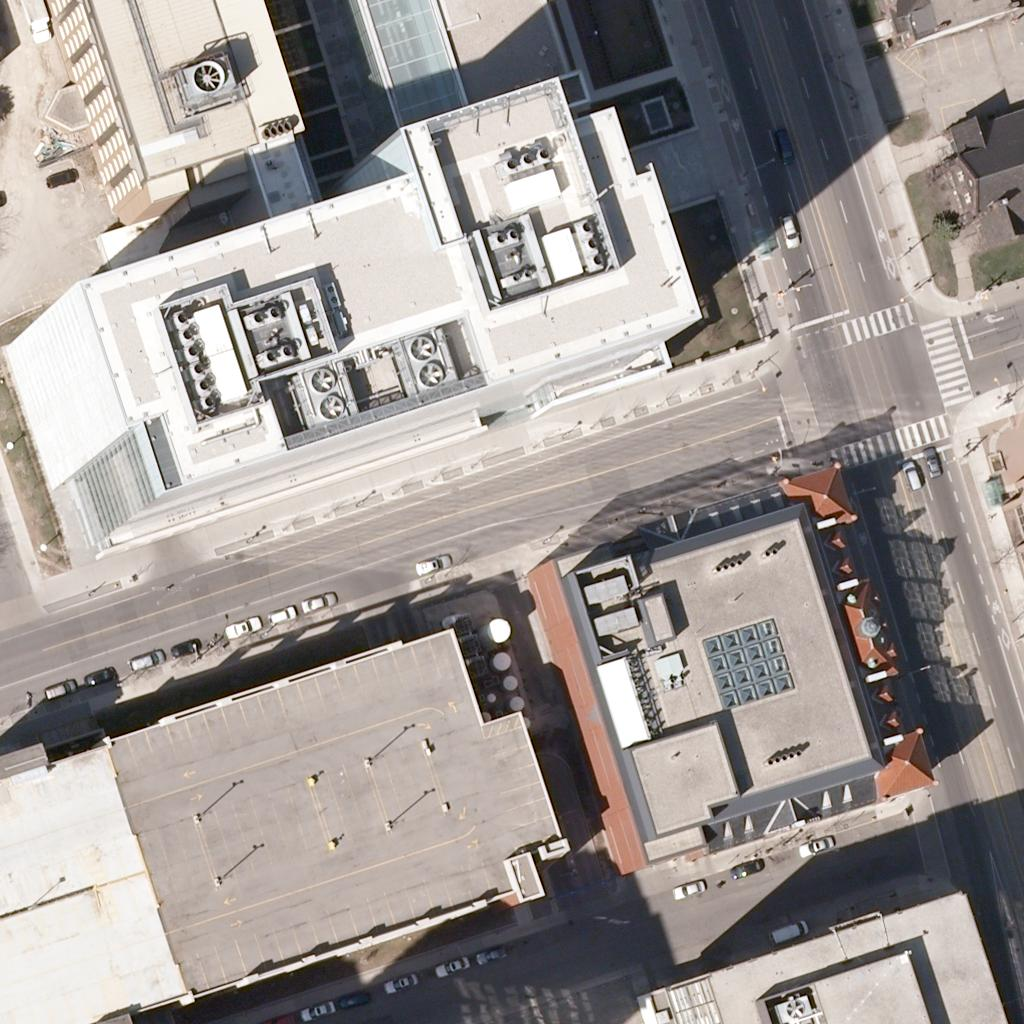car: (768, 131, 802, 165), (48, 158, 82, 192), (773, 212, 807, 246), (914, 443, 948, 477), (894, 455, 928, 489), (415, 547, 449, 581), (302, 584, 336, 618), (266, 598, 300, 632), (226, 610, 260, 644), (166, 629, 200, 663), (171, 629, 205, 663), (129, 643, 163, 677), (129, 644, 163, 678), (80, 659, 114, 693), (41, 674, 75, 708), (799, 828, 833, 862), (730, 850, 764, 884), (674, 870, 708, 904), (774, 914, 808, 948), (473, 937, 507, 971), (435, 948, 469, 982), (383, 964, 417, 998), (337, 981, 371, 1015), (299, 993, 333, 1024), (263, 1004, 297, 1024)
